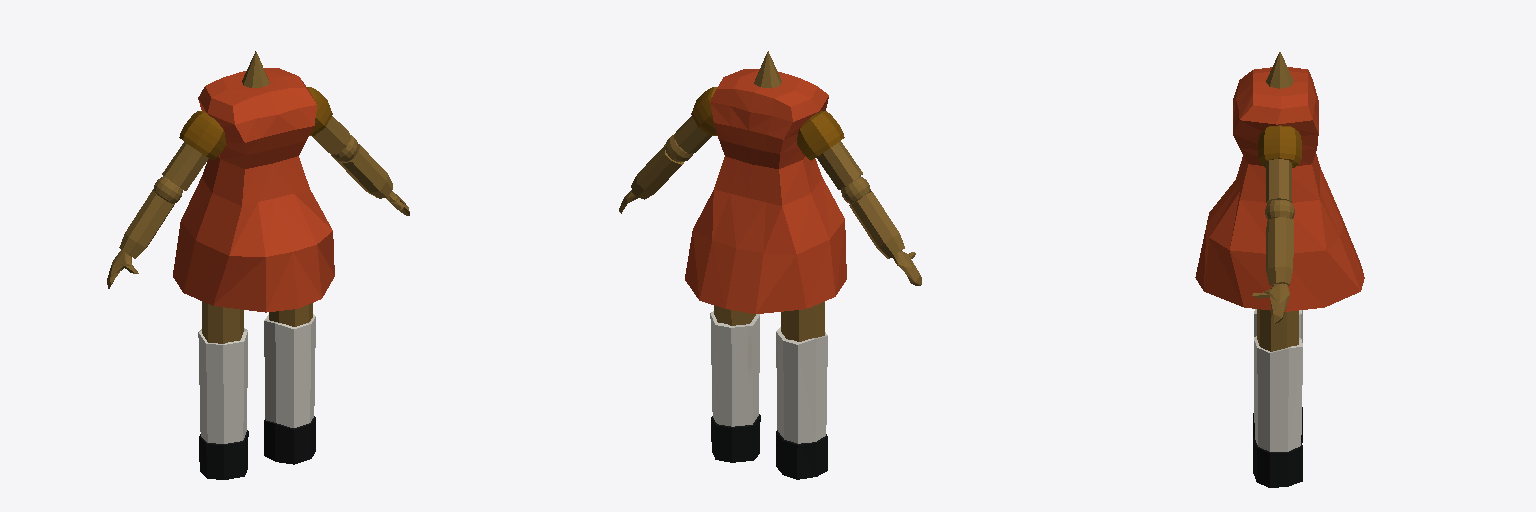
The picture shows the model from 3 angles: view 1: azimuth 30°, elevation 25°; view 2: azimuth 150°, elevation 25°; view 3: azimuth 270°, elevation 25°; orthographic projection.
Parts seen in each view (by area): view 1: 立方体, 立方体.006, 立方体.003, 立方体.004, 立方体.001, 立方体.002, 球体.002, Cube.001, 锥体.001; view 2: 立方体, 立方体.006, 立方体.003, 立方体.001, 立方体.002, 立方体.004, 球体.002, Cube.001, 锥体.001; view 3: 立方体, 立方体.006, 立方体.003, 立方体.001, 立方体.004, 立方体.002, Cube.001, 锥体.001.
Boxes of the visible parts, x1=… form: 立方体: x1=173, y1=68, x2=334, y2=312; 立方体.006: x1=198, y1=314, x2=315, y2=479; 立方体.003: x1=119, y1=144, x2=392, y2=258; 立方体.004: x1=202, y1=301, x2=312, y2=343; 立方体.001: x1=179, y1=87, x2=332, y2=160; 立方体.002: x1=162, y1=116, x2=350, y2=190; 球体.002: x1=153, y1=135, x2=358, y2=203; Cube.001: x1=107, y1=191, x2=409, y2=288; 锥体.001: x1=242, y1=51, x2=269, y2=87; 立方体: x1=685, y1=69, x2=846, y2=313; 立方体.006: x1=710, y1=311, x2=827, y2=479; 立方体.003: x1=631, y1=144, x2=904, y2=258; 立方体.001: x1=691, y1=87, x2=844, y2=160; 立方体.002: x1=674, y1=116, x2=862, y2=189; 立方体.004: x1=714, y1=302, x2=824, y2=341; 球体.002: x1=665, y1=134, x2=870, y2=204; Cube.001: x1=619, y1=190, x2=921, y2=285; 锥体.001: x1=754, y1=51, x2=781, y2=88; 立方体: x1=1195, y1=67, x2=1364, y2=311; 立方体.006: x1=1253, y1=309, x2=1302, y2=487; 立方体.003: x1=1266, y1=217, x2=1293, y2=285; 立方体.001: x1=1258, y1=125, x2=1301, y2=167; 立方体.004: x1=1257, y1=309, x2=1298, y2=351; 立方体.002: x1=1266, y1=159, x2=1291, y2=203; Cube.001: x1=1252, y1=283, x2=1289, y2=323; 锥体.001: x1=1266, y1=52, x2=1293, y2=88.
Size of the model in its own units: 8.65 by 11.3 by 4.22.
1 materials, 1 textured.